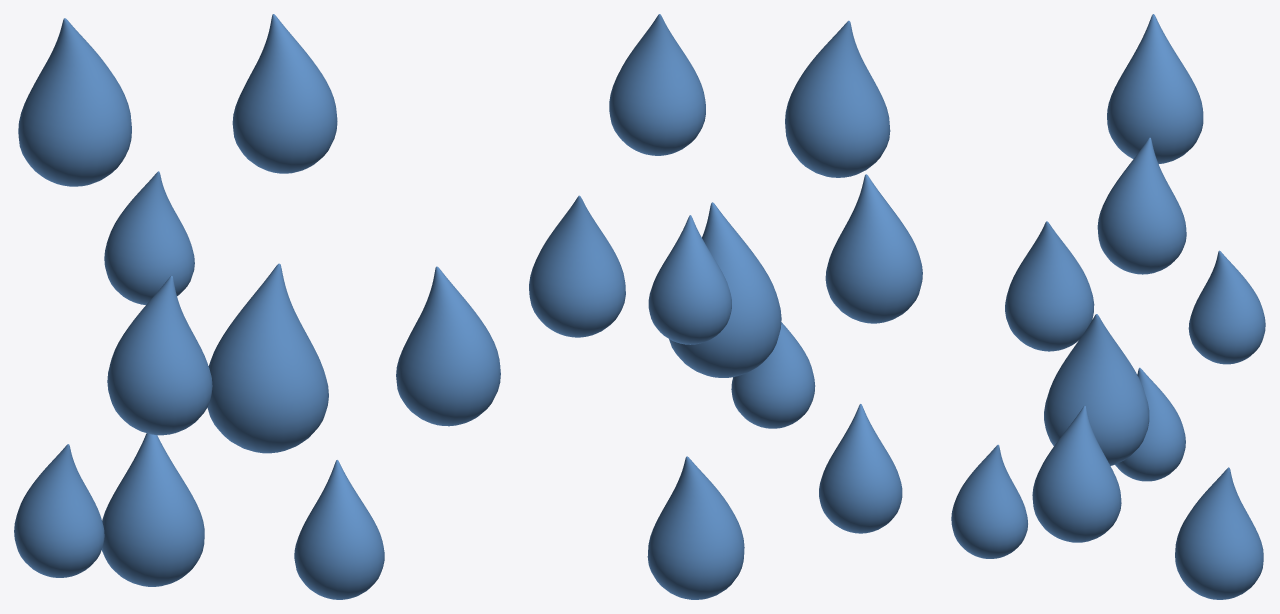
The model's file is agua gota.fbx.
The picture shows the model from 3 angles, left to right: view 1: azimuth 30°, elevation 25°; view 2: azimuth 150°, elevation 25°; view 3: azimuth 270°, elevation 25°; orthographic projection. The views are drawn at different scales.
Visible parts, largest first — view 1: water_drop.007; view 2: water_drop.007; view 3: water_drop.007.
Part boxes in pixels (left/top/right/bottom): water_drop.007: left=14, top=14, right=500, bottom=599; water_drop.007: left=529, top=14, right=922, bottom=599; water_drop.007: left=951, top=14, right=1265, bottom=599.
Size of the model in its own units: 14.13 by 19.47 by 10.48.
Materials: 9 (9 with a texture image).
